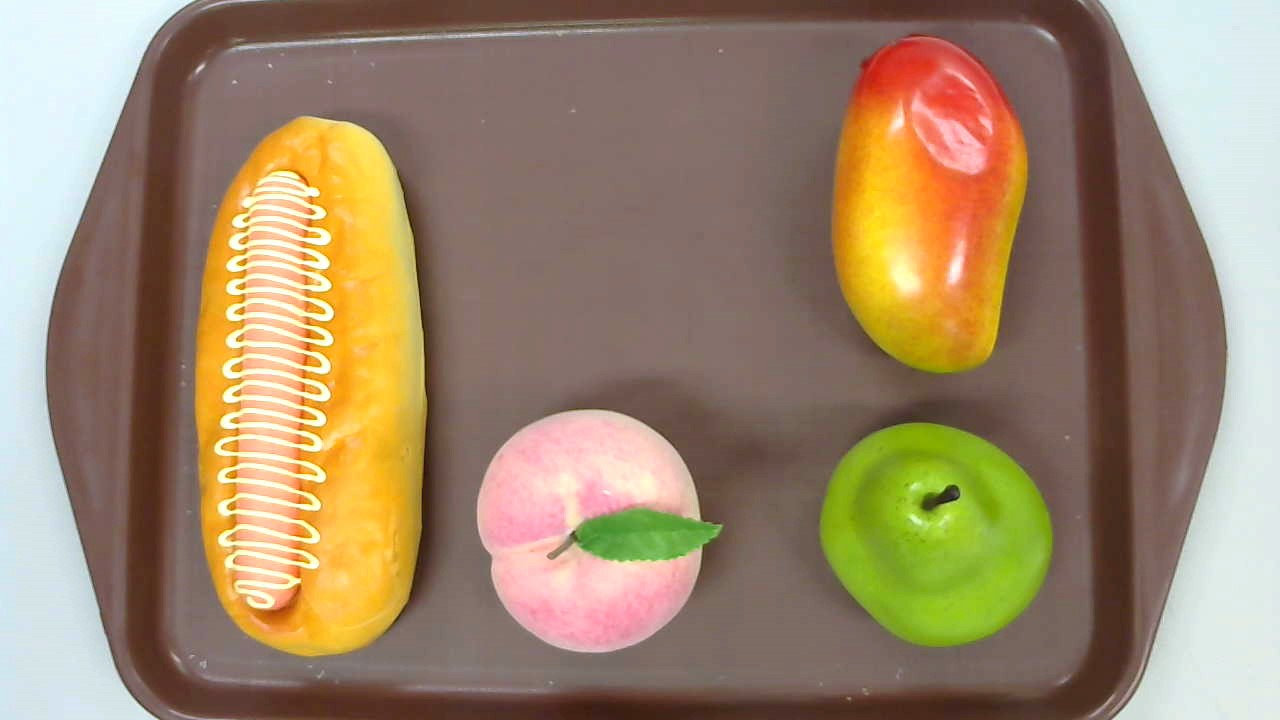green pear: (818, 422, 1052, 647)
hot dog: (195, 116, 428, 659)
peach: (476, 409, 722, 656)
red mango: (829, 35, 1028, 372)
